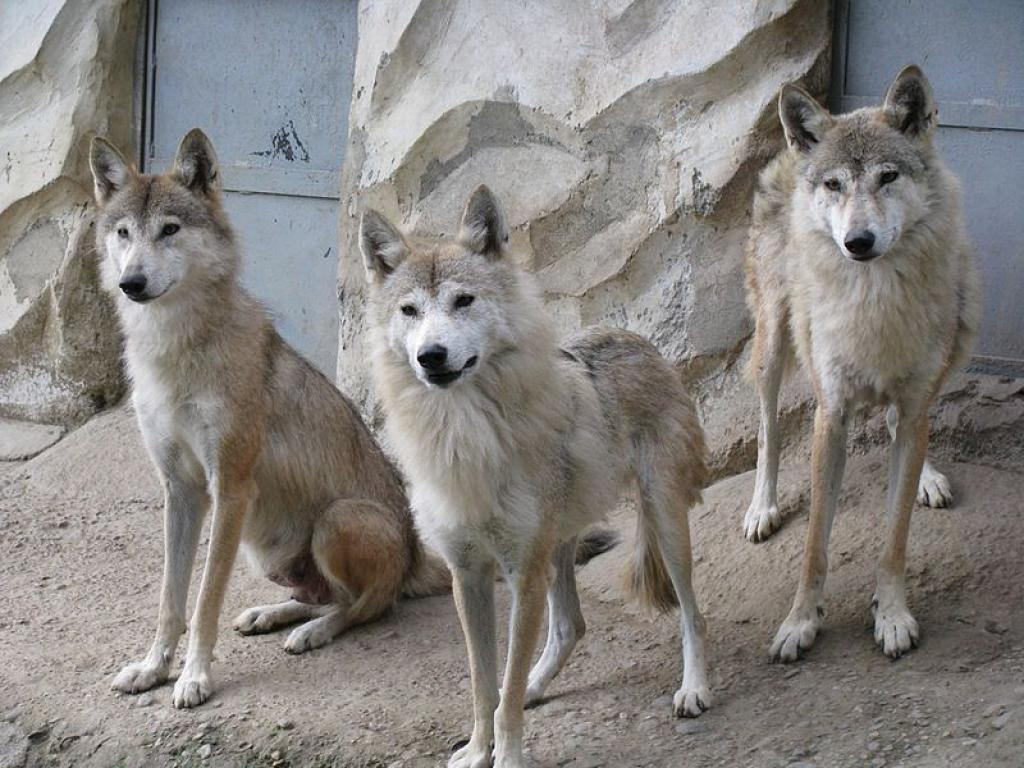wolf: (343, 182, 727, 768), (76, 112, 403, 701), (734, 65, 998, 665)
